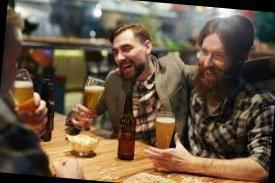Drunk: (111, 33, 144, 78), (199, 35, 228, 85)
